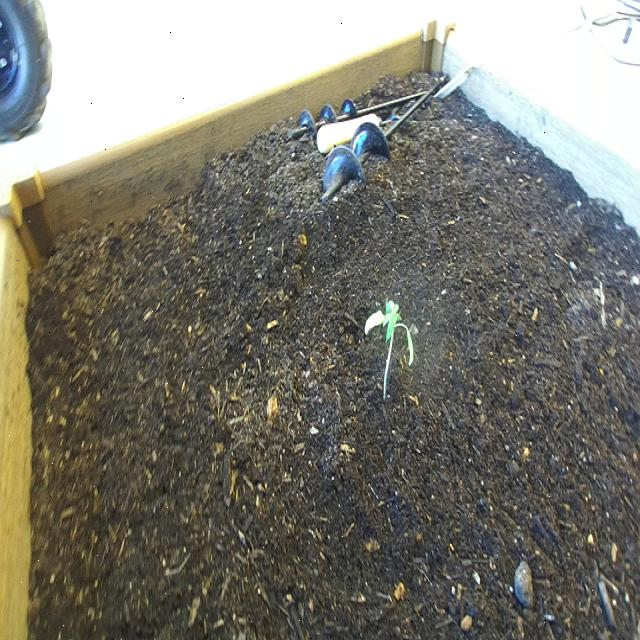Healthy: (359, 296, 416, 408)
